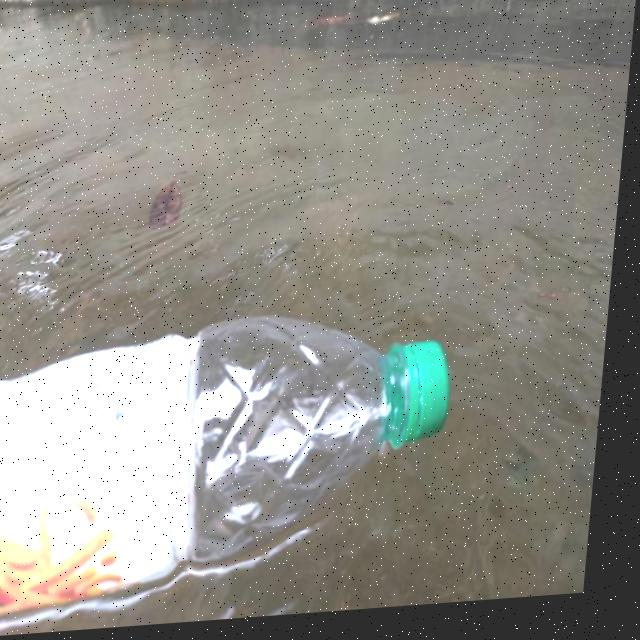leaf: (308, 2, 409, 50), (140, 163, 199, 238)
waterbottle: (0, 256, 619, 640)
